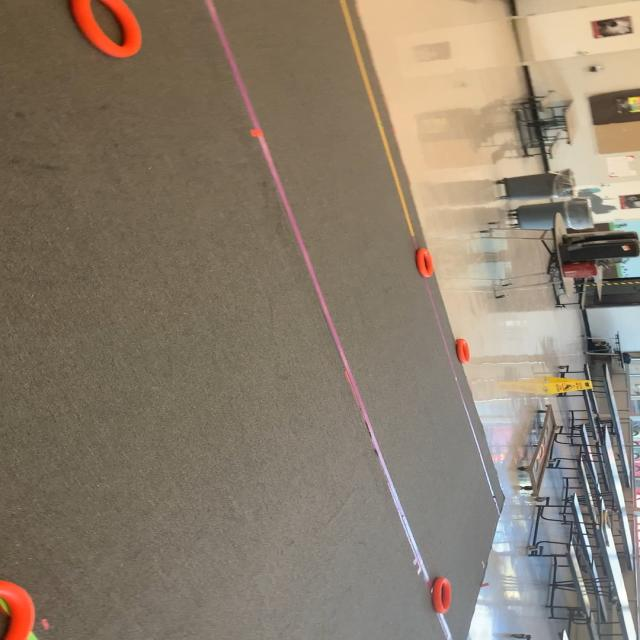notes: (67, 0, 145, 60), (0, 574, 39, 640), (432, 576, 454, 616), (452, 333, 474, 365), (412, 248, 433, 278)
